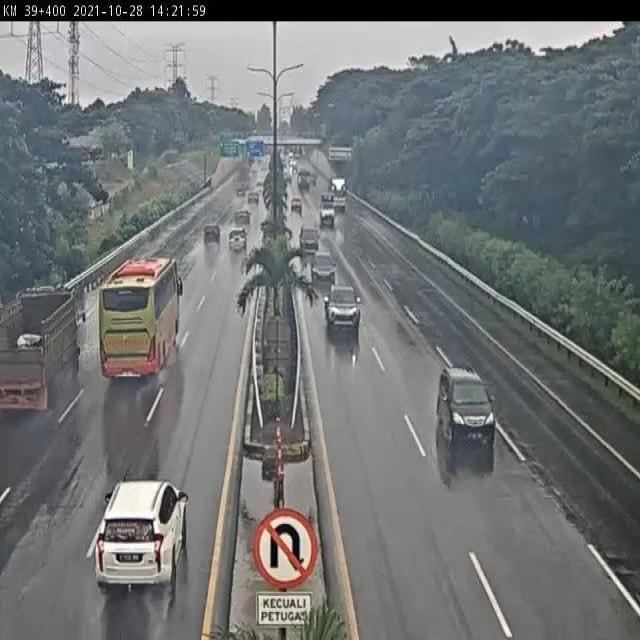Bus: (98, 252, 184, 386), (328, 174, 348, 211)
Car: (94, 477, 188, 591), (436, 362, 498, 447), (322, 283, 362, 334), (309, 250, 338, 284), (298, 224, 322, 254), (228, 225, 248, 252), (203, 223, 221, 246), (234, 209, 251, 226), (290, 197, 304, 212), (247, 191, 260, 206)
Truck: (0, 286, 88, 414), (319, 192, 336, 227), (296, 168, 312, 192)
